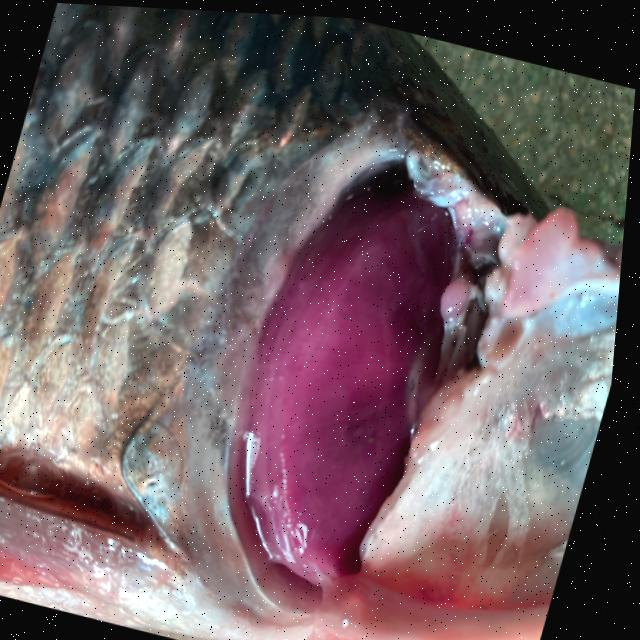Fresh: (213, 146, 508, 640)
